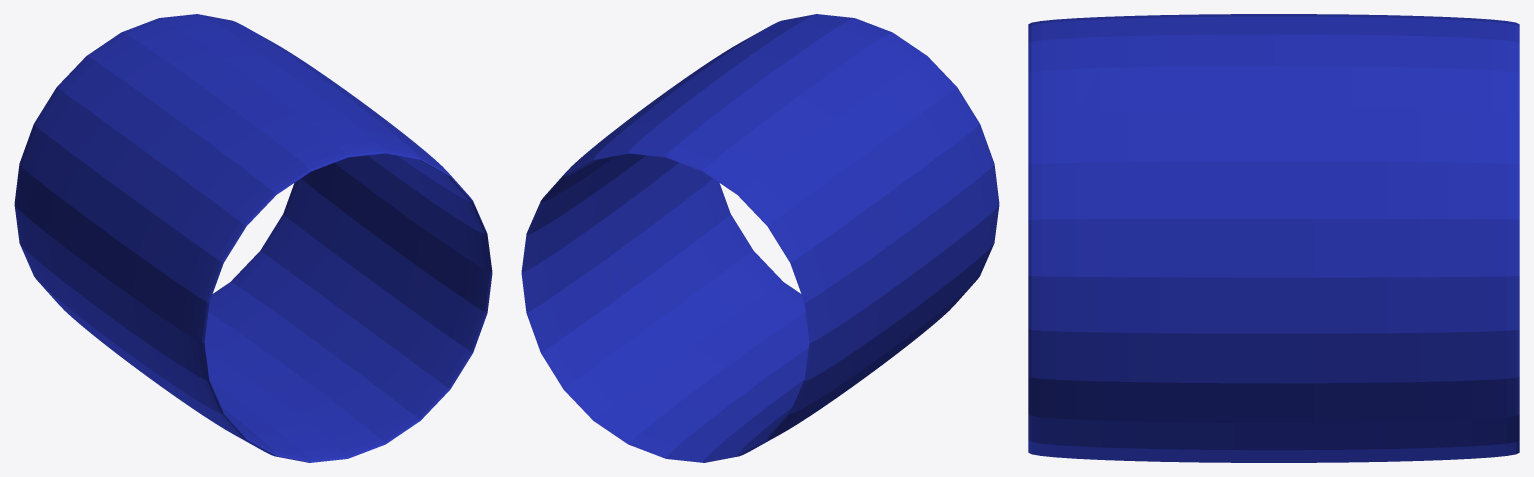
File: ring.obj
The picture shows the model from 3 angles, left to right: view 1: azimuth 30°, elevation 25°; view 2: azimuth 150°, elevation 25°; view 3: azimuth 270°, elevation 25°; orthographic projection. The views are drawn at different scales.
Parts seen in each view (by area): view 1: obj_0; view 2: obj_0; view 3: obj_0.
Boxes of the visible parts, x1=… form: obj_0: x1=14, y1=14, x2=492, y2=462; obj_0: x1=521, y1=14, x2=999, y2=462; obj_0: x1=1028, y1=14, x2=1519, y2=462.
Size of the model in its own units: 200 by 200 by 218.
